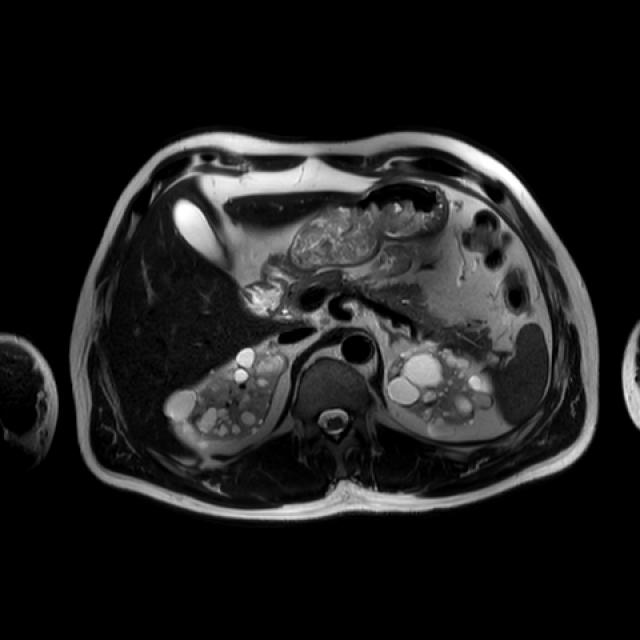sag: (162, 347, 288, 443)
sol: (386, 343, 496, 437)
